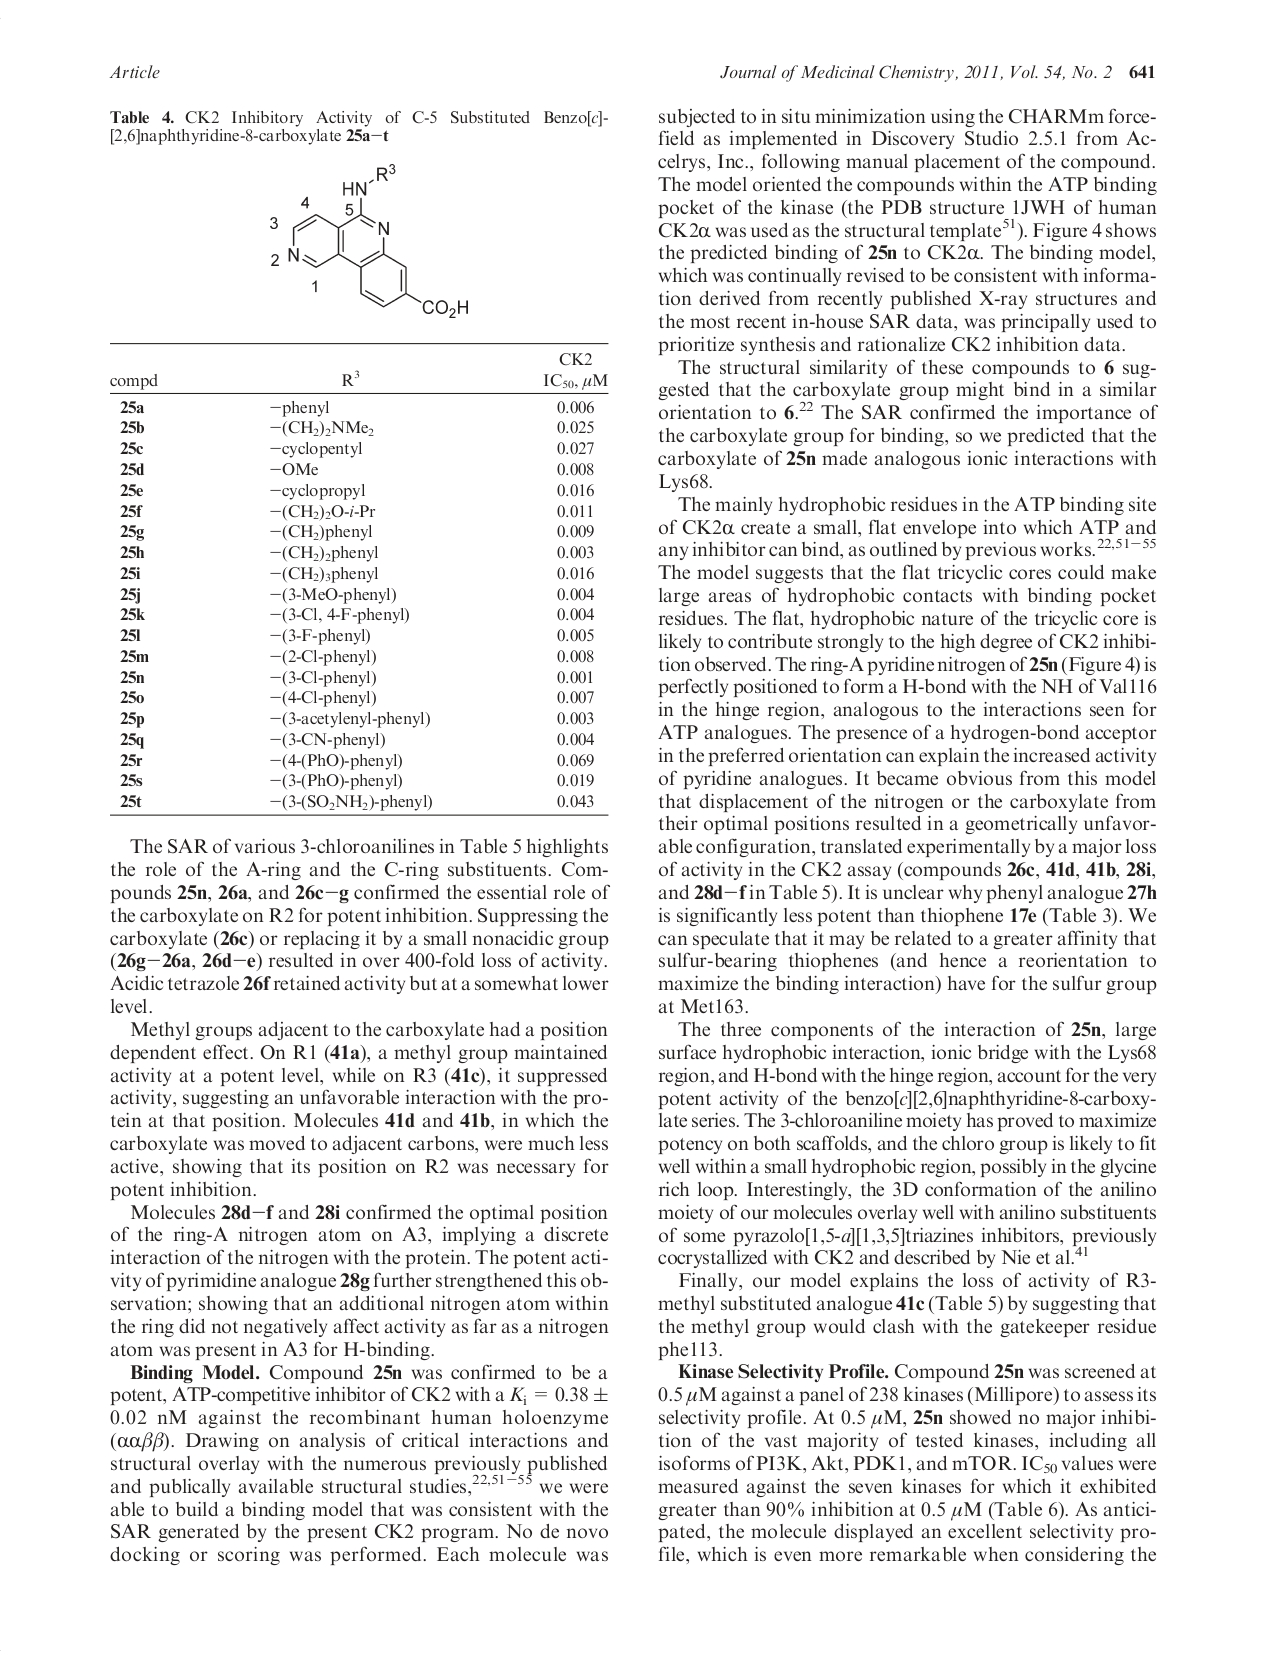exist_molecular: (285, 162, 471, 321)
